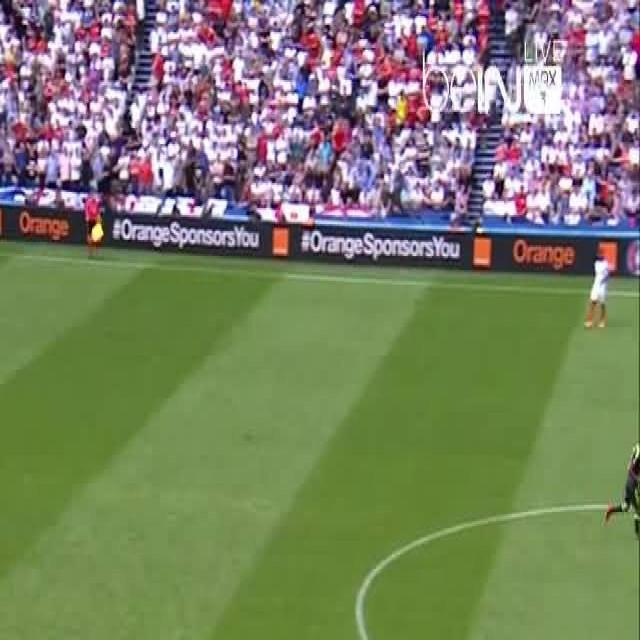player-white: (603, 441, 640, 536), (585, 251, 609, 328), (86, 186, 102, 258)
